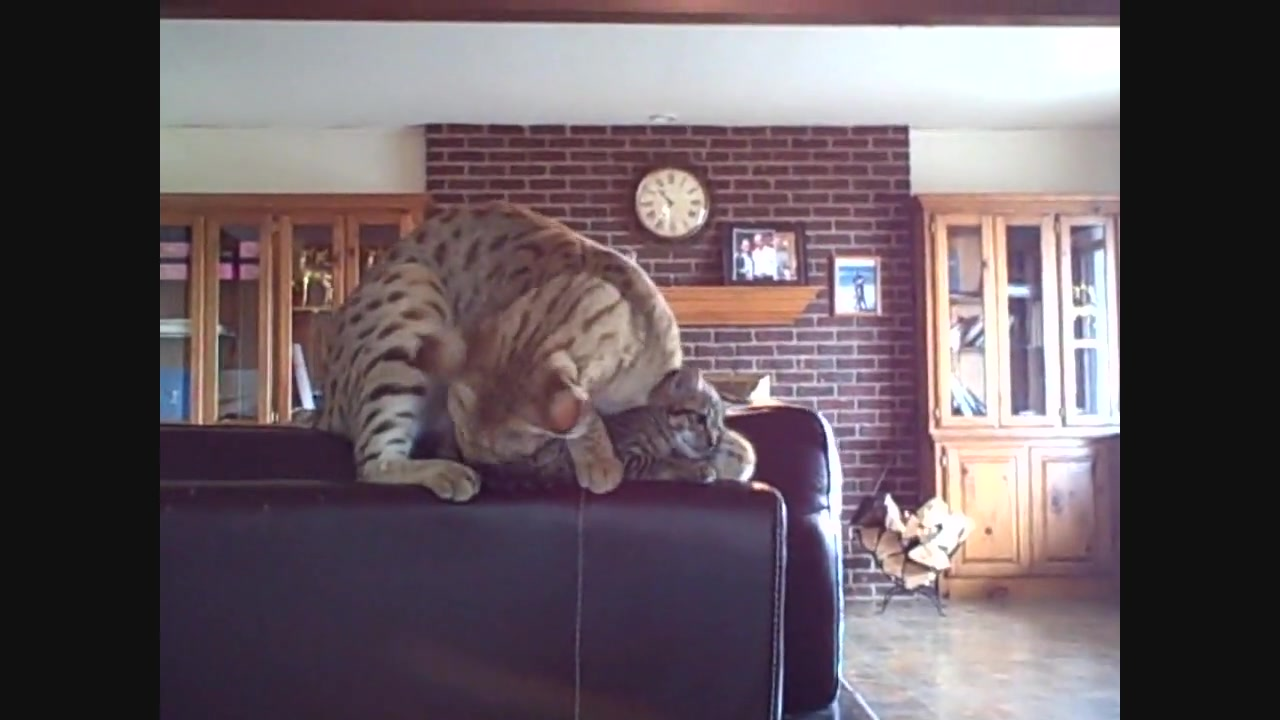cat: (315, 199, 685, 501)
